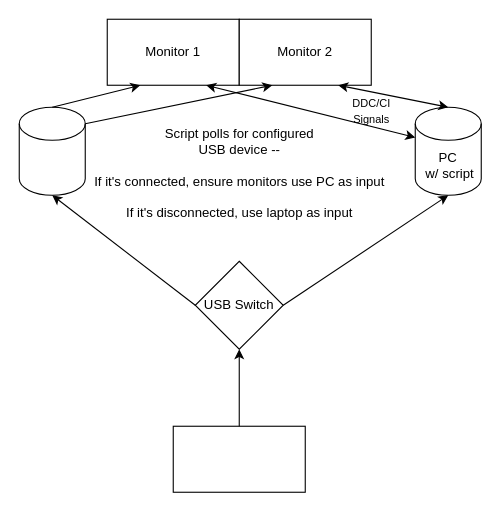
Some shapes in this 501 by 512 pixel diagram are drawn without their labels. The shapes that lost their labels are listed below. From the top down, each one's box as (x1, y1, x2, y2) in pixels, then its label:
(18, 106, 85, 195): Laptop
(172, 425, 305, 492): USB Hub w/ all devices
